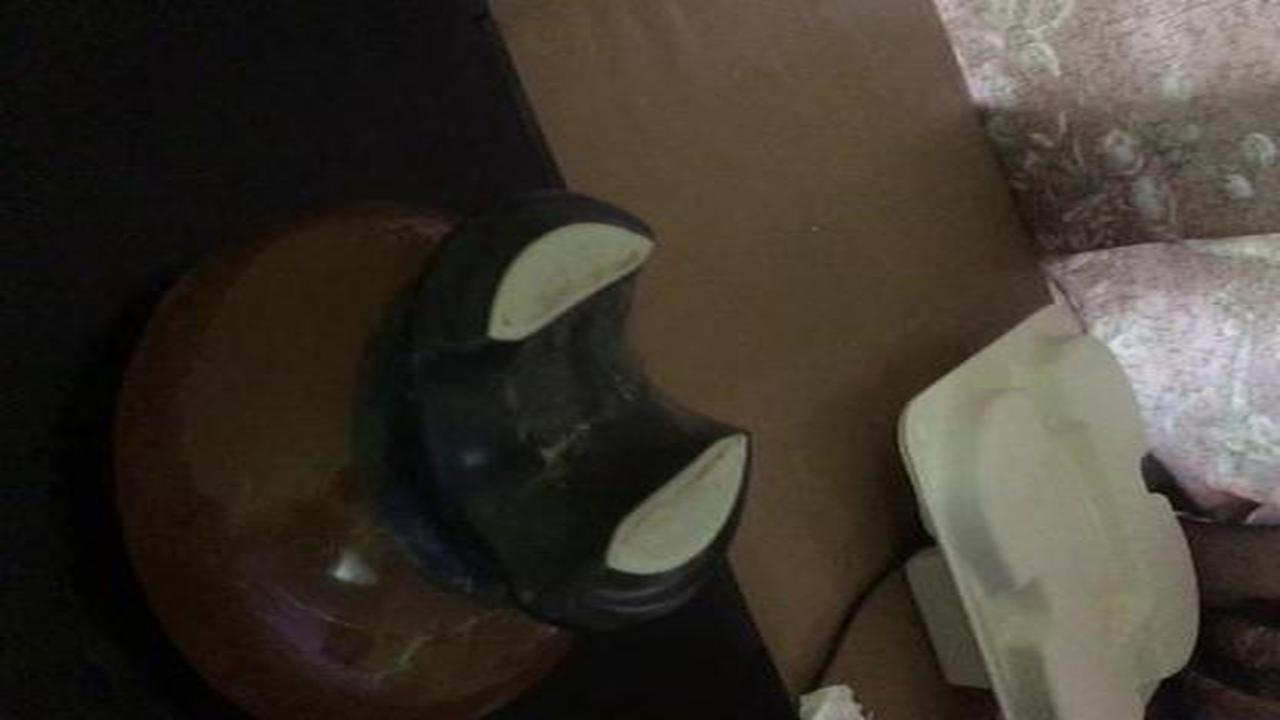insulator_pin: (87, 195, 773, 703)
